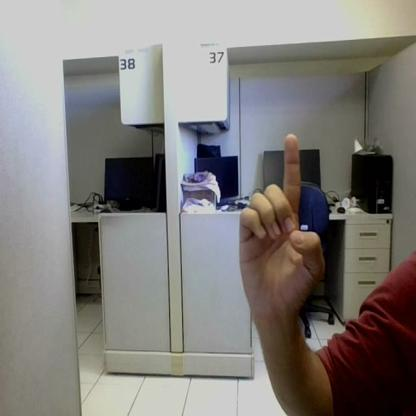D: (240, 134, 325, 311)
